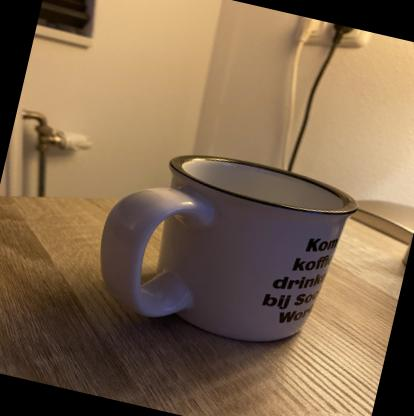Cup: (80, 130, 368, 366)
